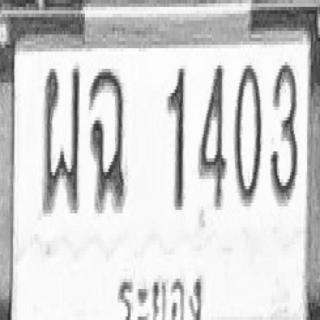A09: (88, 67, 126, 212)
A28: (42, 65, 80, 213)
N00: (234, 62, 261, 206)
N01: (167, 66, 185, 210)
N03: (270, 62, 297, 203)
N04: (197, 60, 226, 208)
P53: (112, 262, 205, 320)
